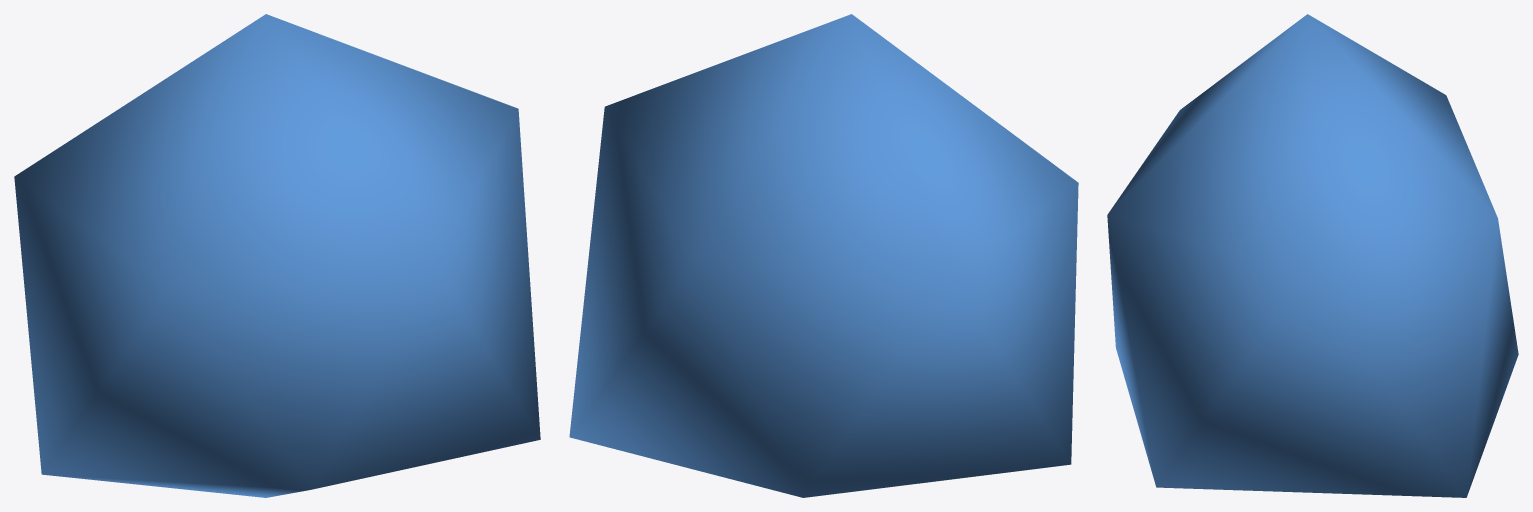
The model's file is stardust_fragment.glb.
3 renders of one model, left to right at view 1: azimuth 30°, elevation 25°; view 2: azimuth 150°, elevation 25°; view 3: azimuth 270°, elevation 25°, orthographic. The views are drawn at different scales.
Visible parts, largest first — view 1: stardust_fragment_v0; view 2: stardust_fragment_v0; view 3: stardust_fragment_v0.
Boxes of the visible parts, <box> form: stardust_fragment_v0: <box>14,14,540,497</box>; stardust_fragment_v0: <box>569,14,1078,497</box>; stardust_fragment_v0: <box>1107,14,1518,497</box>.
Size of the model in its own units: 0.2021 by 0.196 by 0.1619.
